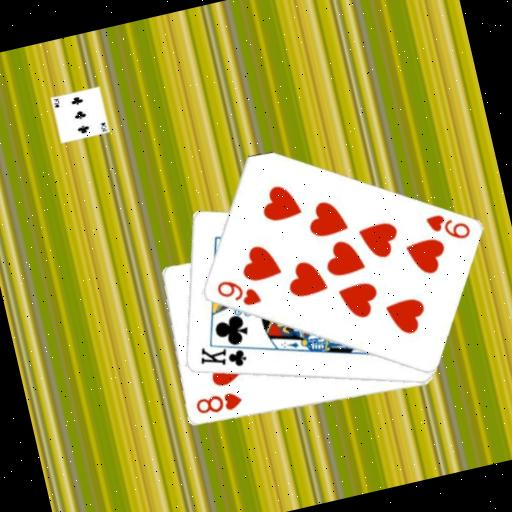8H: (191, 387, 245, 420)
9H: (212, 271, 264, 315), (421, 205, 473, 248)
KC: (193, 332, 257, 378)
